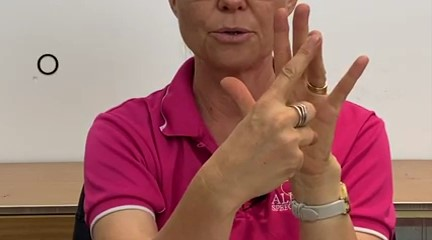O: (210, 1, 376, 206)
